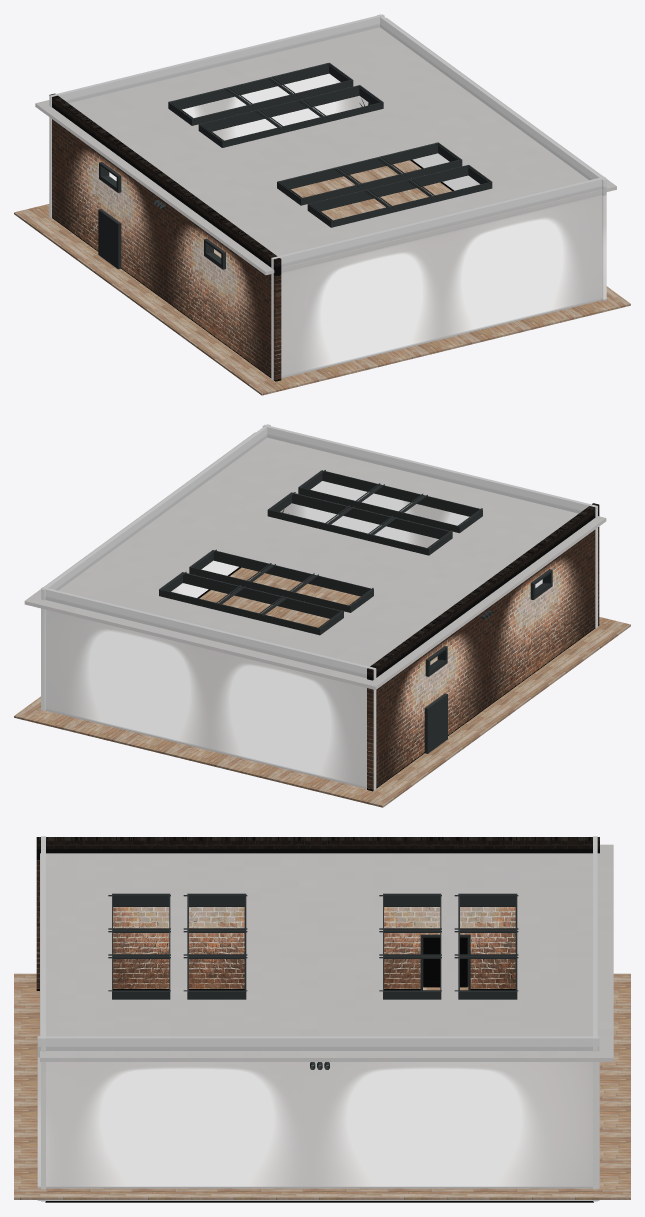
File: artgallery_pool.glb
The picture shows the model from 3 angles, top to bottom: view 1: azimuth 30°, elevation 25°; view 2: azimuth 150°, elevation 25°; view 3: azimuth 270°, elevation 25°; orthographic projection. The views are drawn at different scales.
Parts seen in each view (by area): view 1: Plane, Plane.002, Plane.003, Plane.012, Plane.001, Cube.018, Cube.028, Door trim; view 2: Plane, Plane.001, Plane.003, Plane.012, Plane.002, Cube.018, Cube.028, Door trim; view 3: Plane, Plane.001, Plane.003, Plane.012, Cube.018, Cube.028, Plane.002, Wall trim, Cube.
Part boxes in pixels (x1,y1,x2,y2): Plane: (35, 17, 616, 275); Plane.002: (271, 176, 606, 380); Plane.003: (49, 93, 281, 381); Plane.012: (14, 160, 630, 395); Plane.001: (49, 14, 606, 301); Cube.018: (277, 142, 492, 227); Cube.028: (168, 62, 383, 147); Door trim: (98, 209, 121, 269); Plane: (24, 432, 606, 689); Plane.001: (41, 424, 376, 790); Plane.003: (367, 503, 599, 791); Plane.012: (14, 567, 630, 807); Plane.002: (262, 424, 597, 628); Cube.018: (267, 470, 482, 555); Cube.028: (159, 549, 373, 635); Door trim: (424, 693, 447, 753); Plane: (40, 844, 613, 1061); Plane.001: (37, 836, 599, 1201); Plane.003: (36, 837, 599, 990); Plane.012: (14, 973, 630, 1199); Cube.018: (108, 893, 247, 999); Cube.028: (379, 893, 518, 999); Plane.002: (41, 836, 45, 1201); Wall trim: (45, 989, 593, 1202); Cube: (423, 937, 467, 987).
Size of the model in its own units: 22.12 by 7.65 by 25.74.
Materials: 16 (6 with a texture image).
